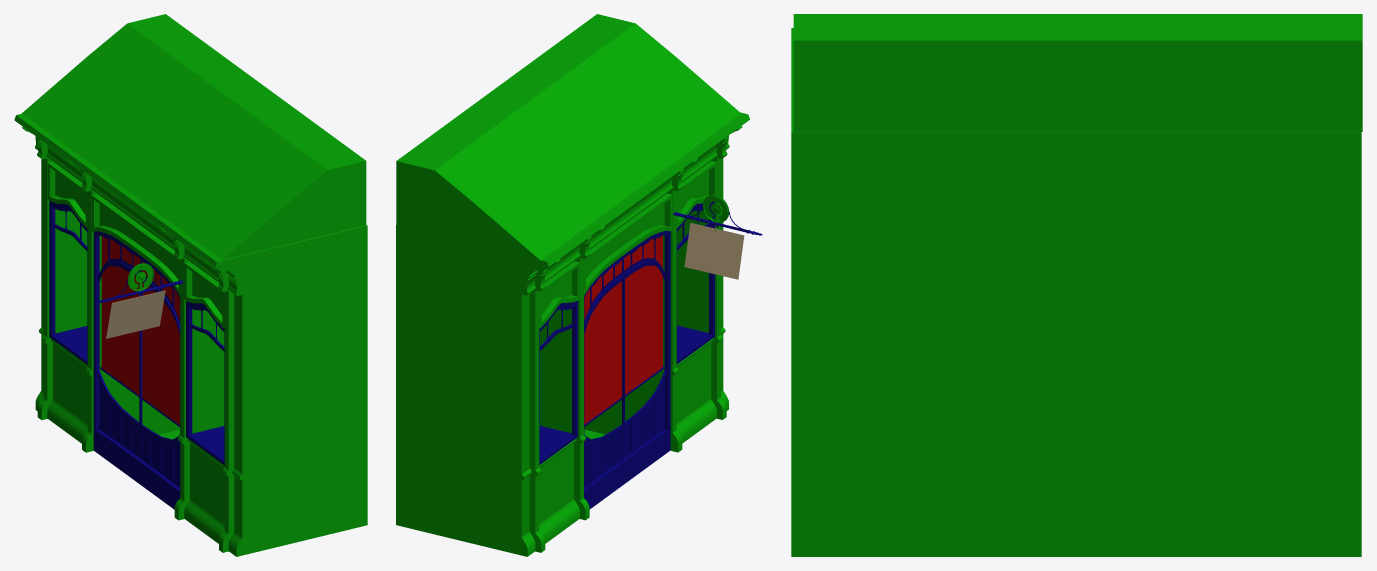
The model's file is ClockShop_Base.fbx.
3 renders of one model, left to right at view 1: azimuth 30°, elevation 25°; view 2: azimuth 150°, elevation 25°; view 3: azimuth 270°, elevation 25°, orthographic. The views are drawn at different scales.
Visible parts, largest first — view 1: ClockShopWall1, Sign_ClockShop; view 2: ClockShopWall1, Sign_ClockShop; view 3: ClockShopWall1.
Part boxes in pixels (left/top/right/bottom): ClockShopWall1: left=14, top=14, right=367, bottom=556; Sign_ClockShop: left=106, top=290, right=165, bottom=338; ClockShopWall1: left=396, top=14, right=762, bottom=556; Sign_ClockShop: left=684, top=222, right=744, bottom=279; ClockShopWall1: left=791, top=14, right=1362, bottom=556.
Bounding box in the file's own units: 90.47 × 144 × 144.
